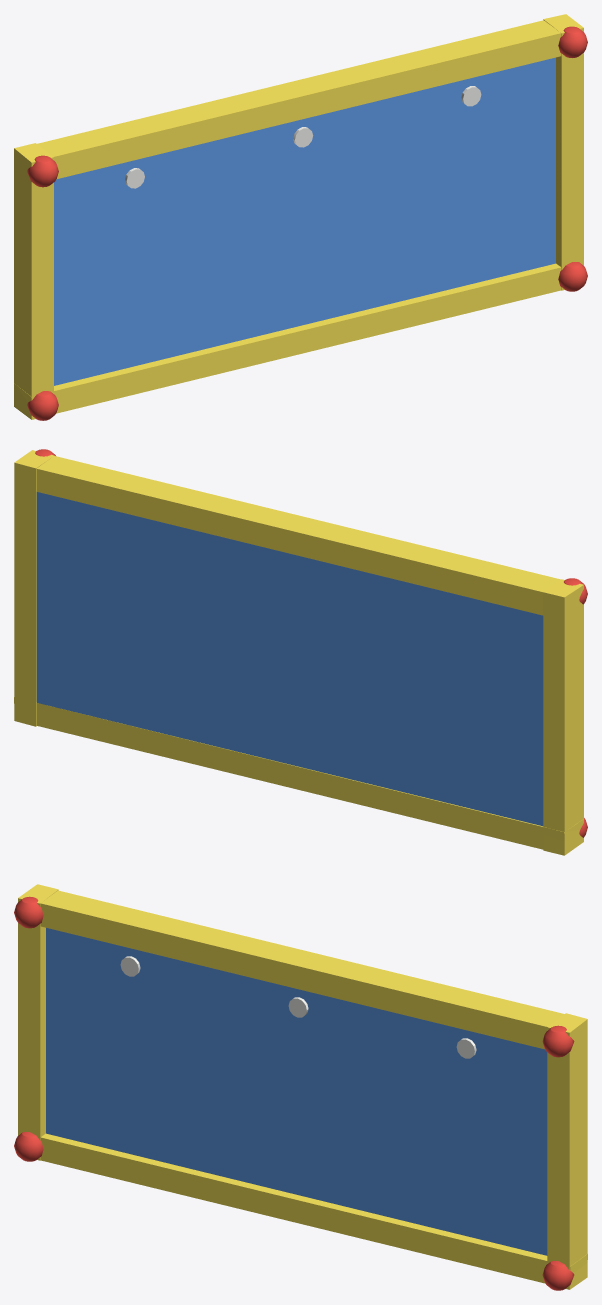
File: ShapePanel.fbx
3 views of the same model, one above another, from view 1: azimuth 30°, elevation 25°; view 2: azimuth 150°, elevation 25°; view 3: azimuth 330°, elevation 25° (orthographic).
Visible parts, largest first — view 1: ShapePanel; view 2: ShapePanel; view 3: ShapePanel.
Boxes of the visible parts, left/top/right/bottom form: ShapePanel: left=14, top=14, right=587, bottom=420; ShapePanel: left=14, top=449, right=587, bottom=855; ShapePanel: left=14, top=884, right=587, bottom=1290.
Size of the model in its own units: 1.82 by 0.82 by 0.149.
